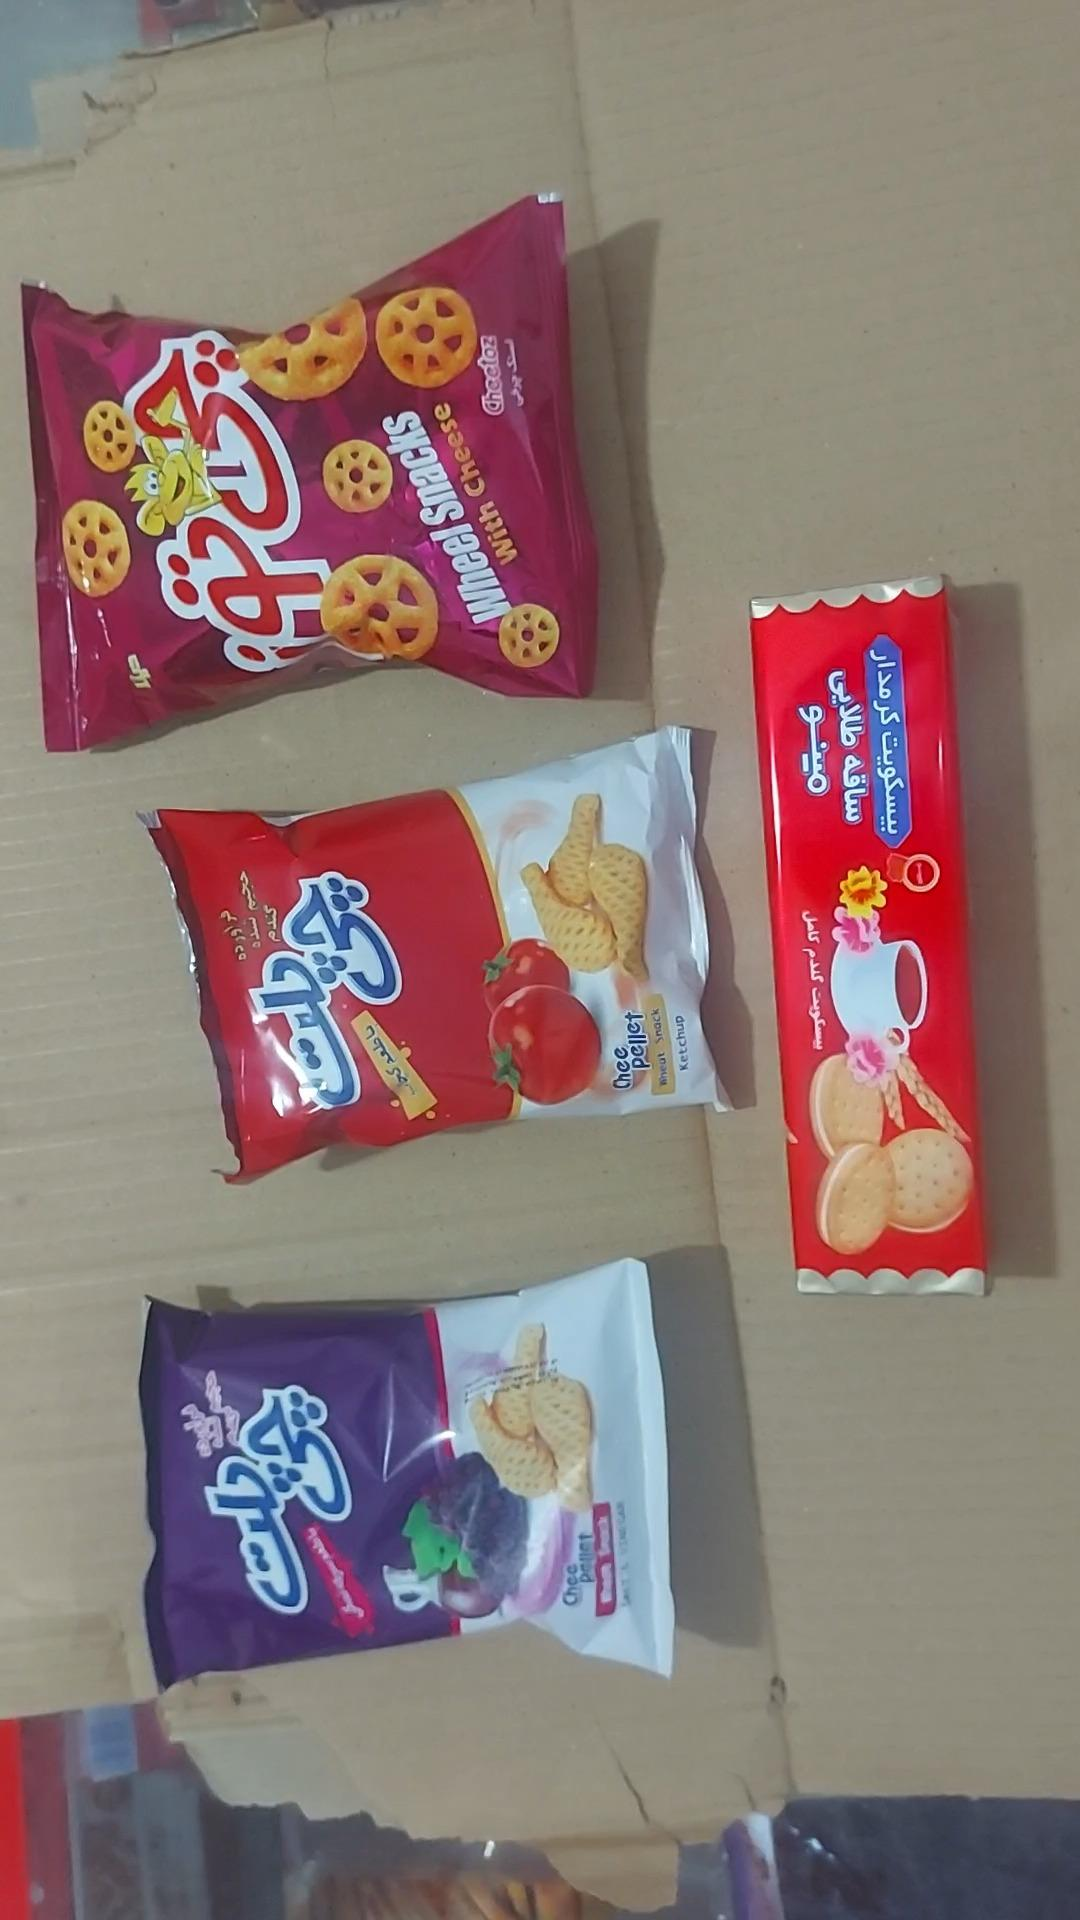Chee pellet ketchup: (138, 727, 736, 1187)
Chee pellet vinegar: (137, 1259, 676, 1693)
Cheetoz wheelsnack: (21, 195, 601, 756)
Minoo cream biscuit: (748, 576, 992, 1302)
